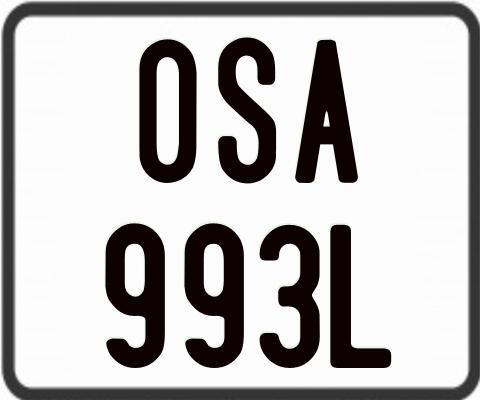0: (136, 38, 195, 183)
3: (260, 222, 321, 366)
9: (105, 223, 171, 373), (182, 220, 242, 365)
A: (294, 40, 361, 185)
L: (328, 225, 393, 369)
S: (216, 34, 275, 182)
